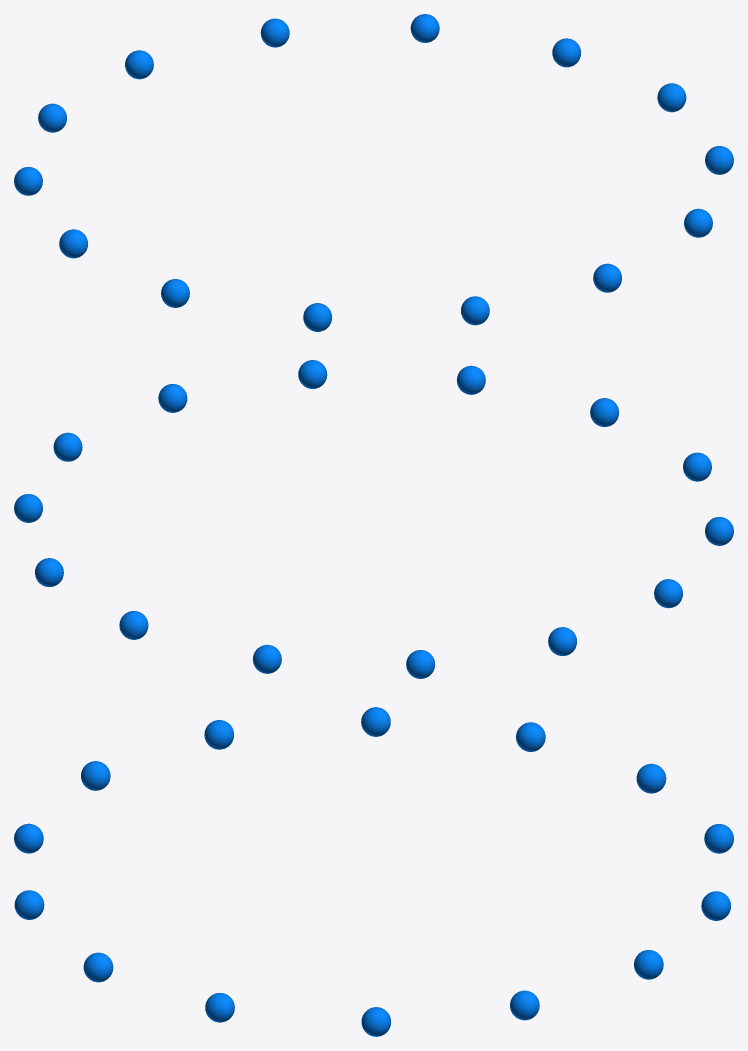
3 views of the same model, one above another, from view 1: azimuth 30°, elevation 25°; view 2: azimuth 150°, elevation 25°; view 3: azimuth 270°, elevation 25° (orthographic). The views are drawn at different scales.
Parts seen in each view (by area): view 1: Sphere052; view 2: Sphere052; view 3: Sphere052.
Part boxes in pixels (bbox=[...]): Sphere052: bbox=[14, 14, 733, 331]; Sphere052: bbox=[14, 360, 733, 678]; Sphere052: bbox=[14, 707, 733, 1036].
Size of the model in its own units: 204 by 8.22 by 199.
